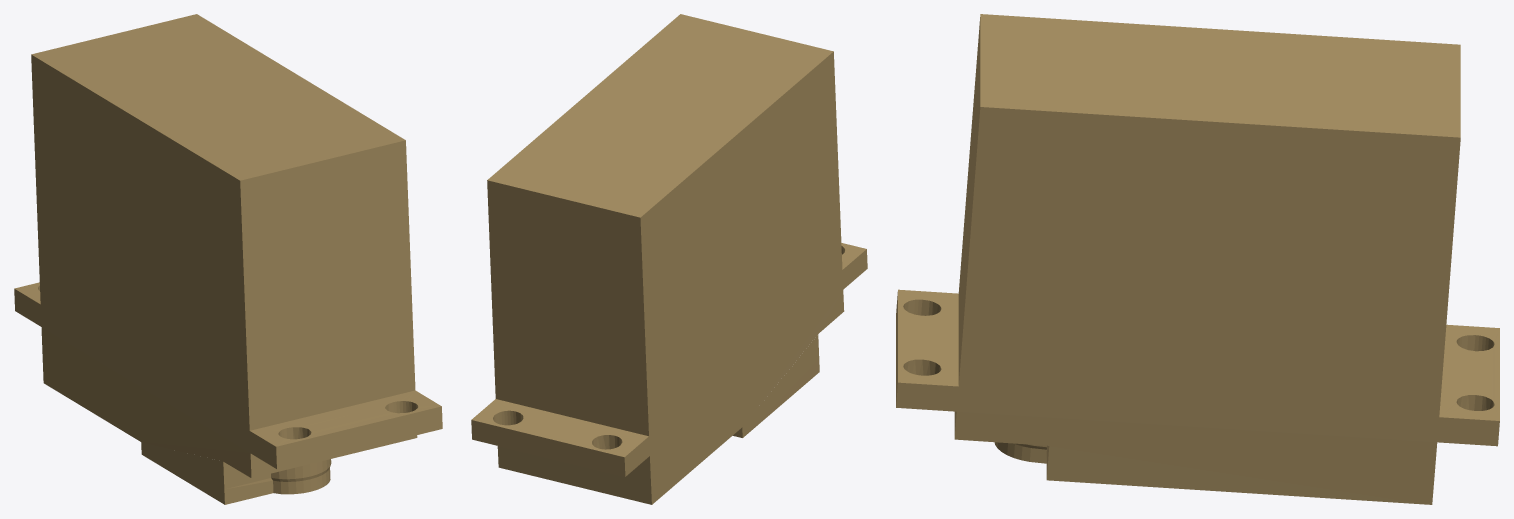
The model's file is left_shoulder_y_link_visual_1.obj.balanced.glb.
The picture shows the model from 3 angles, left to right: view 1: azimuth 30°, elevation 25°; view 2: azimuth 150°, elevation 25°; view 3: azimuth 270°, elevation 25°; orthographic projection. The views are drawn at different scales.
Bounding box in the file's own units: 0.2829 × 0.5644 × 0.7761.
